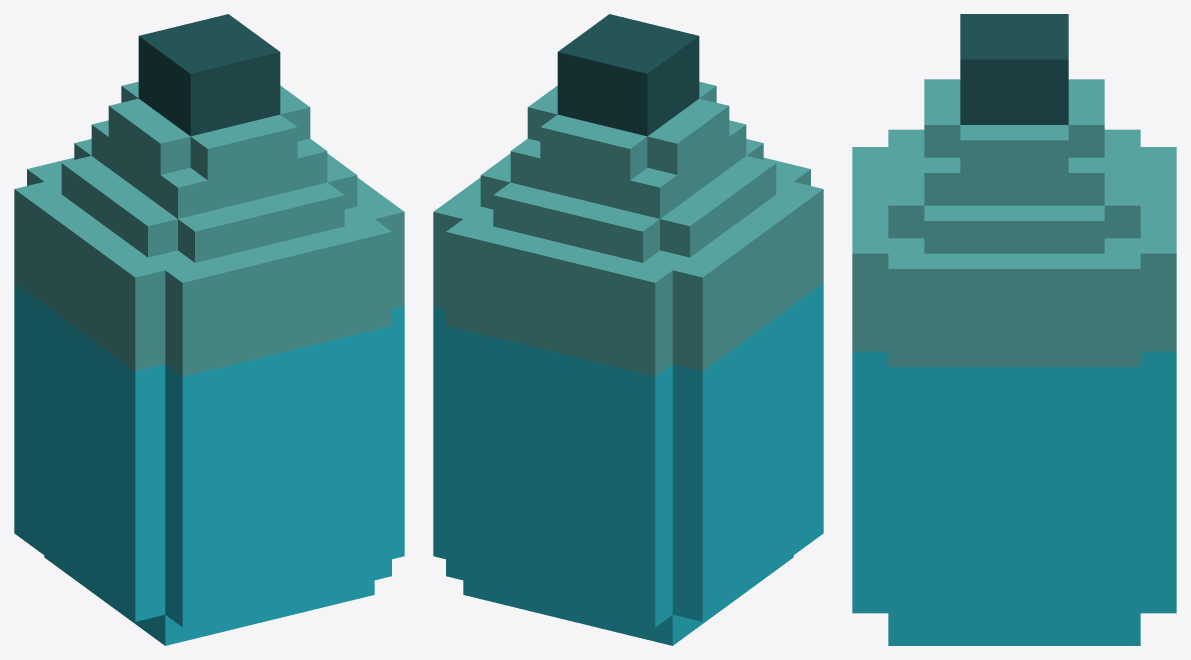
The model's file is Bunker - Free Sample-76-Bottle_Water-6.obj.
3 views of the same model, side by side, from view 1: azimuth 30°, elevation 25°; view 2: azimuth 150°, elevation 25°; view 3: azimuth 270°, elevation 25° (orthographic). The views are drawn at different scales.
Parts seen in each view (by area): view 1: Bottle_Water-6; view 2: Bottle_Water-6; view 3: Bottle_Water-6.
Boxes of the visible parts, <box> form: Bottle_Water-6: <box>14,14,404,645</box>; Bottle_Water-6: <box>433,14,823,645</box>; Bottle_Water-6: <box>852,14,1176,645</box>.
Size of the model in its own units: 0.18 by 0.34 by 0.18.
1 material, 1 textured.
